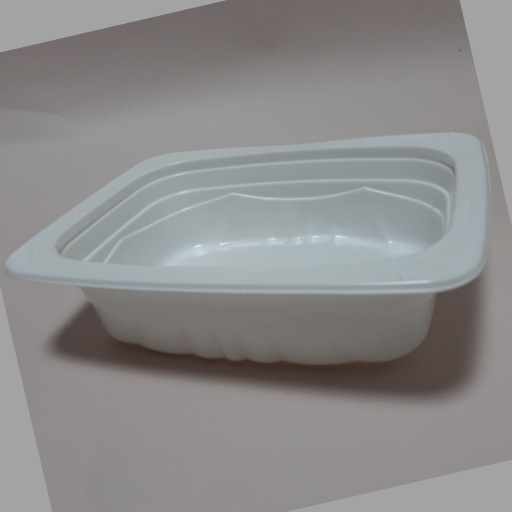Plastic_4: (9, 132, 490, 363)
